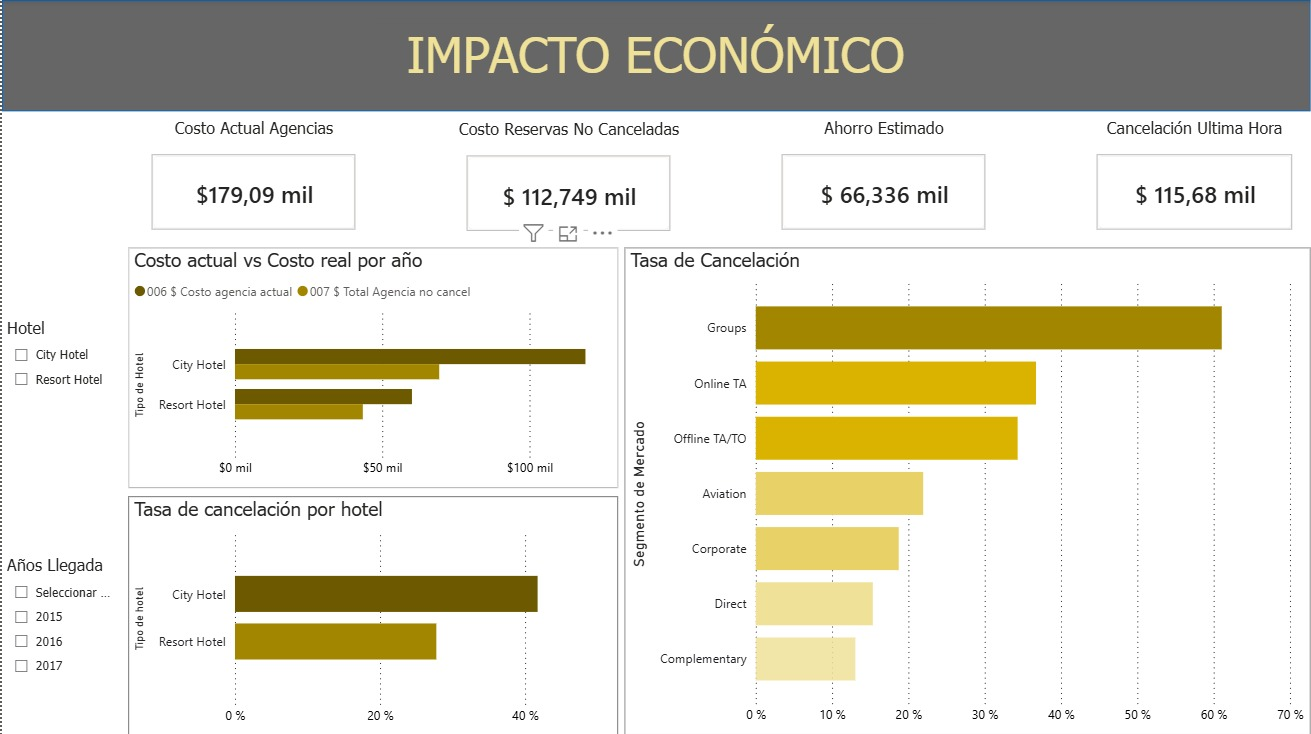

Layout of this report page (visuals, bound fields, positions):
{"tool":"powerbi","page":{"name":"Impacto Económico","canvas":[1280,720],"ordinal":1},"visuals":[{"type":"shape","box":[10,0,1270.1,108.2],"z":0},{"type":"textbox","box":[363.2,18.3,552.7,70.9],"z":1000},{"type":"cardVisual","title":"Costo Actual Agencias","fields":{"Data":["_Métricas.006 $ Costo agencia actual"]},"box":[129.3,114.8,234,126.4],"z":2000},{"type":"cardVisual","title":"Costo Reservas No Canceladas","fields":{"Data":["_Métricas.007 $ Total Agencia no cancel"]},"box":[437.6,116.3,234,126.4],"z":3000},{"type":"cardVisual","title":"Ahorro Estimado","fields":{"Data":["_Métricas.008 $ Ahorro anual"]},"box":[745.9,115.1,234,126.4],"z":4000},{"type":"cardVisual","title":"Cancelación Ultima Hora","fields":{"Data":["_Métricas.009 $ Costo cancel ultima hora"]},"box":[1054.3,115.1,225.3,126.4],"z":5000},{"type":"clusteredBarChart","title":"Costo actual vs Costo real por año","fields":{"Y":["_Métricas.006 $ Costo agencia actual","_Métricas.007 $ Total Agencia no cancel"],"Category":["fact_reservas.tipo_hotel"]},"box":[123.5,242.7,479.6,235.4],"z":6000},{"type":"clusteredBarChart","title":"Tasa de cancelación por hotel","fields":{"Category":["dim_hotel.tipo_hotel"],"Y":["_Métricas.004 % Tasa Cancelacion"]},"box":[123.5,485.4,479.6,234],"z":7000},{"type":"barChart","title":"Tasa de Cancelación","fields":{"Category":["fact_reservas.segmento_mercado"],"Y":["_Métricas.004 % Tasa Cancelacion"]},"box":[608.9,242.7,671.4,476.7],"z":8000},{"type":"slicer","title":"Hotel","fields":{"Values":["dim_hotel.tipo_hotel"]},"box":[0,311,112.7,99.2],"z":9000},{"type":"slicer","title":"Años Llegada","fields":{"Values":["fact_reservas.año_llegada"]},"box":[0,542.7,112.6,131.3],"z":10000}]}

Visuals, with their boxes in screenshot pixels (x1, y1, x2, y2), scaled from the page's 1280x720 canvas onto the 1311x734 screenshot:
shape: box=[10, 0, 1310, 110]
textbox: box=[372, 19, 938, 91]
"Costo Actual Agencias" cardVisual: box=[132, 117, 372, 246]
"Costo Reservas No Canceladas" cardVisual: box=[448, 119, 688, 247]
"Ahorro Estimado" cardVisual: box=[764, 117, 1004, 246]
"Cancelación Ultima Hora" cardVisual: box=[1080, 117, 1310, 246]
"Costo actual vs Costo real por año" clusteredBarChart: box=[126, 247, 618, 487]
"Tasa de cancelación por hotel" clusteredBarChart: box=[126, 495, 618, 733]
"Tasa de Cancelación" barChart: box=[624, 247, 1310, 733]
"Hotel" slicer: box=[0, 317, 115, 418]
"Años Llegada" slicer: box=[0, 553, 115, 687]
